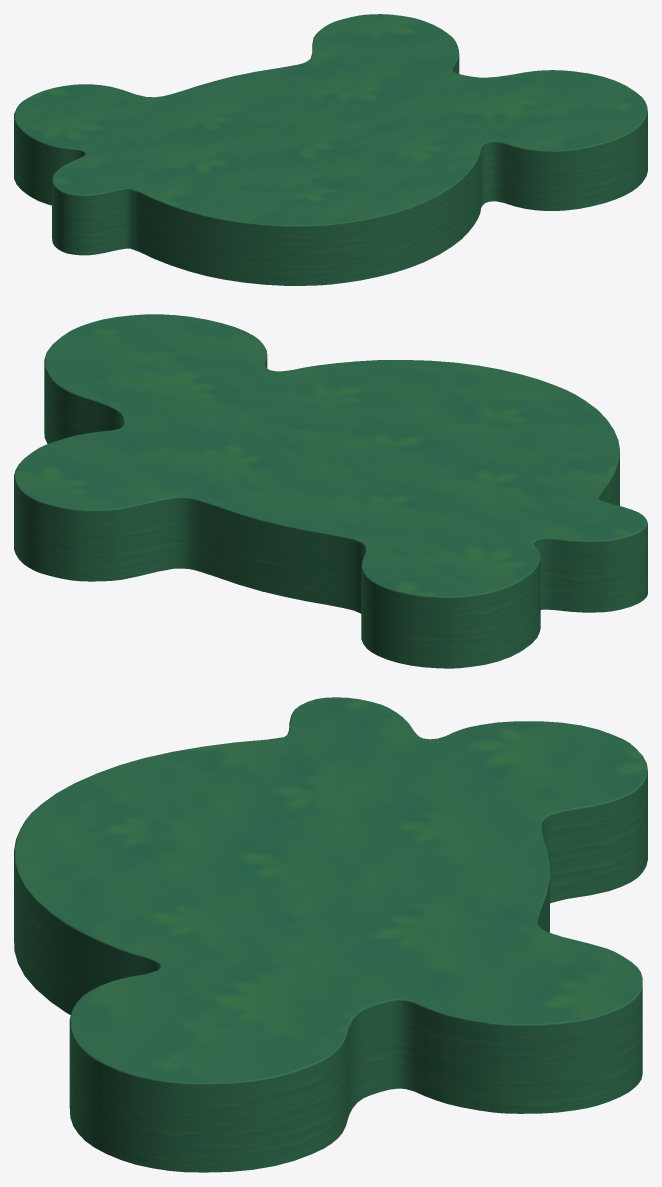
The model's file is turtle-island.glb.
3 renders of one model, top to bottom at view 1: azimuth 30°, elevation 25°; view 2: azimuth 150°, elevation 25°; view 3: azimuth 270°, elevation 25°, orthographic. The views are drawn at different scales.
Parts seen in each view (by area): view 1: geometry_0; view 2: geometry_0; view 3: geometry_0.
Part boxes in pixels (left/top/right/bottom): geometry_0: left=14, top=14, right=647, bottom=285; geometry_0: left=14, top=314, right=647, bottom=668; geometry_0: left=14, top=697, right=647, bottom=1172.
Bounding box in the file's own units: 55.72 × 6 × 38.63.
Materials: 1 (1 with a texture image).
